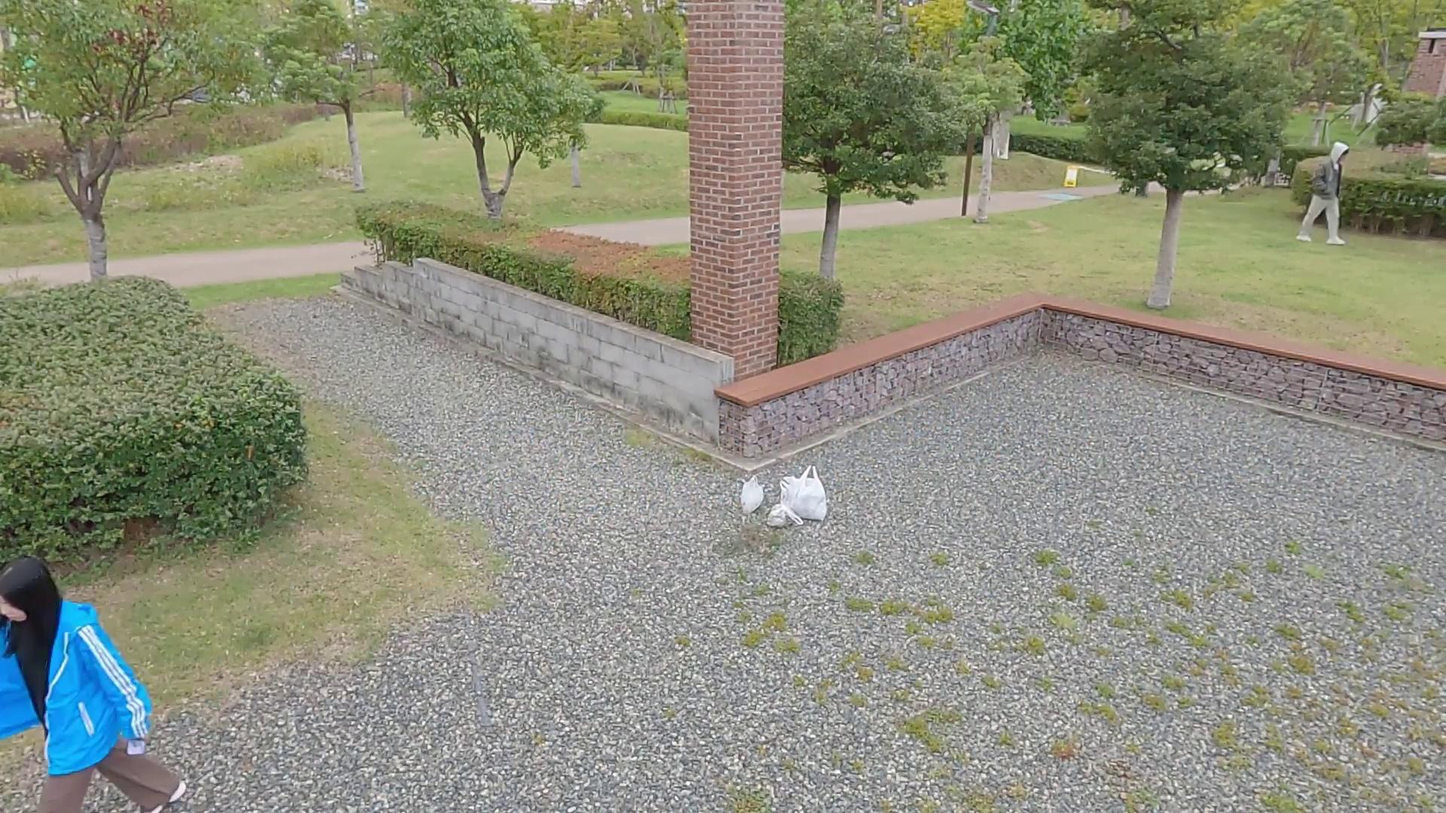person: (0, 550, 196, 813), (1296, 141, 1348, 249)
trash: (792, 463, 827, 522), (777, 475, 806, 513), (766, 499, 802, 529), (739, 475, 765, 513)
